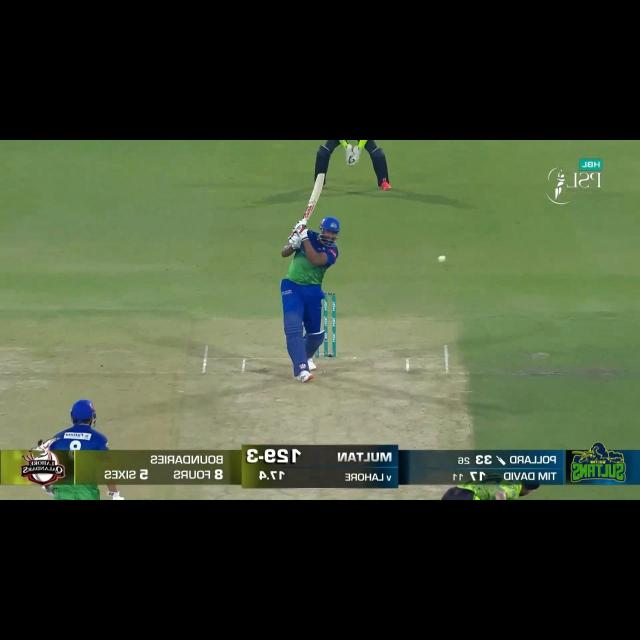bat: (299, 169, 326, 227)
toe: (311, 169, 327, 186)
